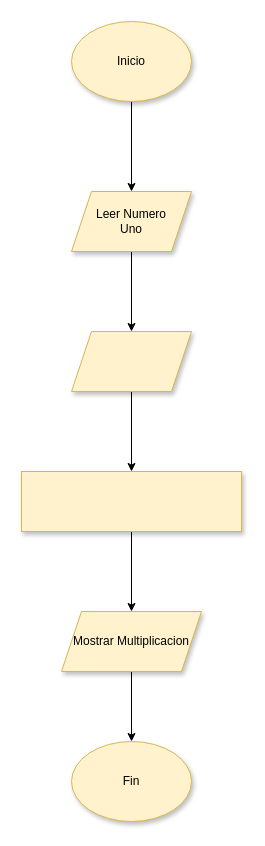
This 265x846 diagram has some shape labels left out. The shapes that lost their labels are listed below. From the top down, each one's centre as x and y in pixels, then its label:
(x=132, y=362): Leer Numero dos
(x=132, y=502): numero_uno * numero_dos
